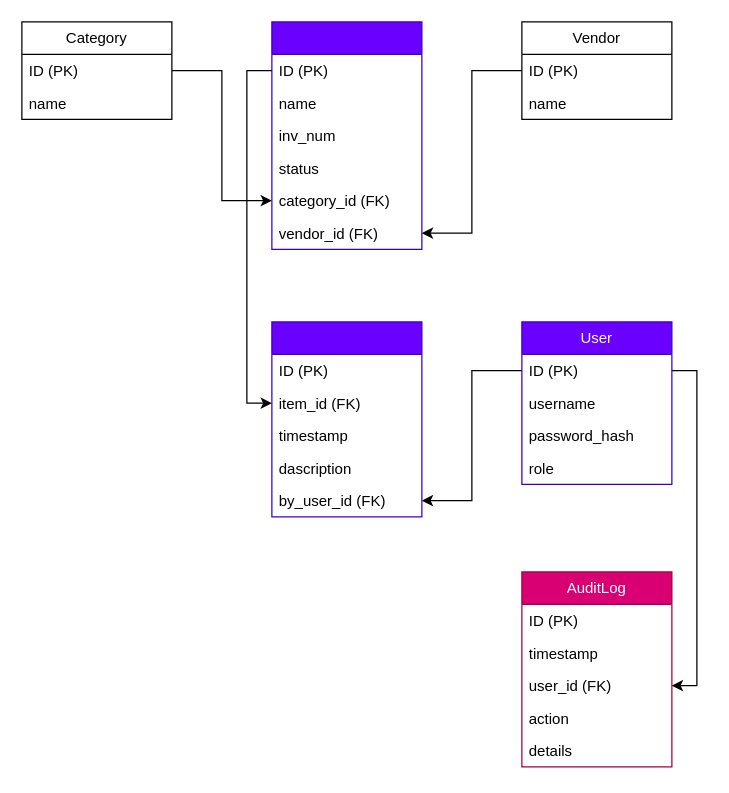
Some shapes in this 729 by 793 pixel diagram are drawn without their labels. Each missing label, with the box of its shape:
InventoryItem: (271, 21, 422, 249)
MaintenanceLog: (271, 321, 422, 517)
